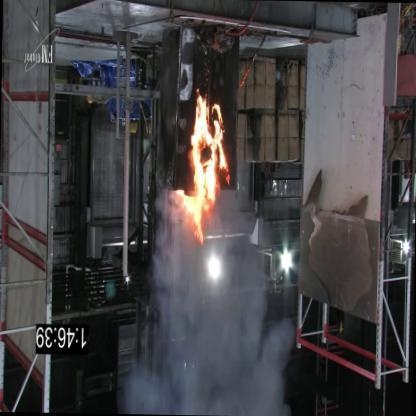fire: (173, 106, 233, 242)
smoke: (157, 250, 282, 413)
